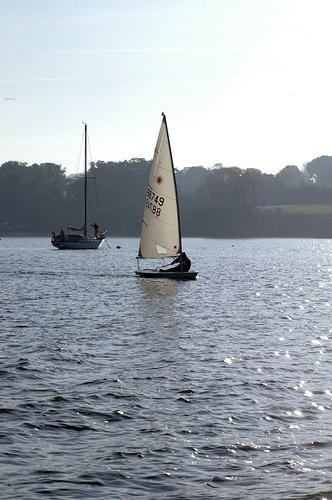boat: (134, 111, 201, 284), (51, 121, 112, 253)
